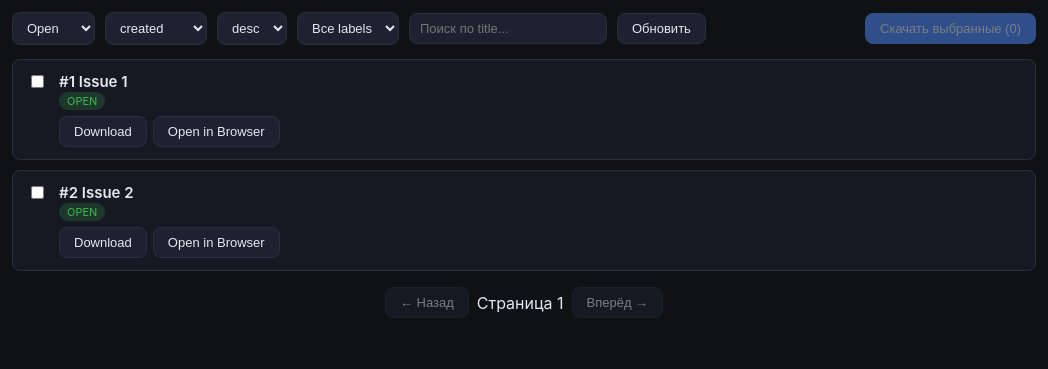
Test: selecting an issue › creates a filter chip, removes the construct text and reloads with the filter
In the field with placeholder "Поиск по title...": (508, 28) 409,13 -> 607,44, type "fix !dep#log"
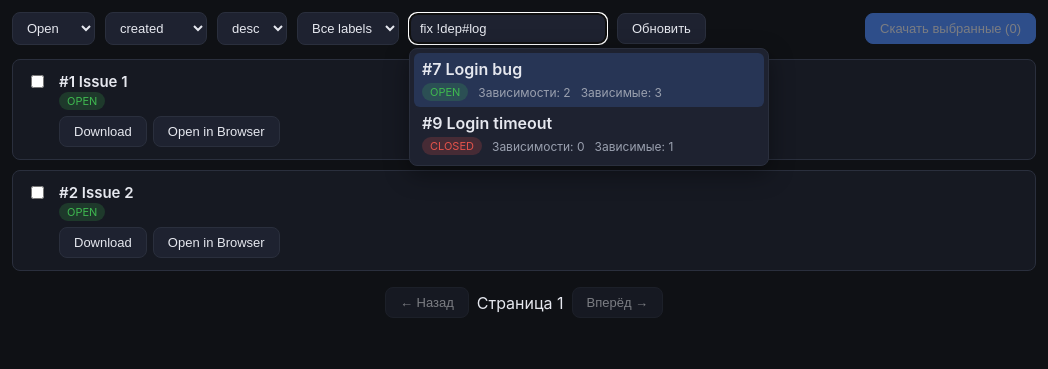
Expected: the option "#7 Login bug open Зависимости: 2 Зависимые: 3" is shown
Click the option "#7 Login bug open Зависимости: 2 Зависимые: 3": (484, 69) 414,53 -> 764,107
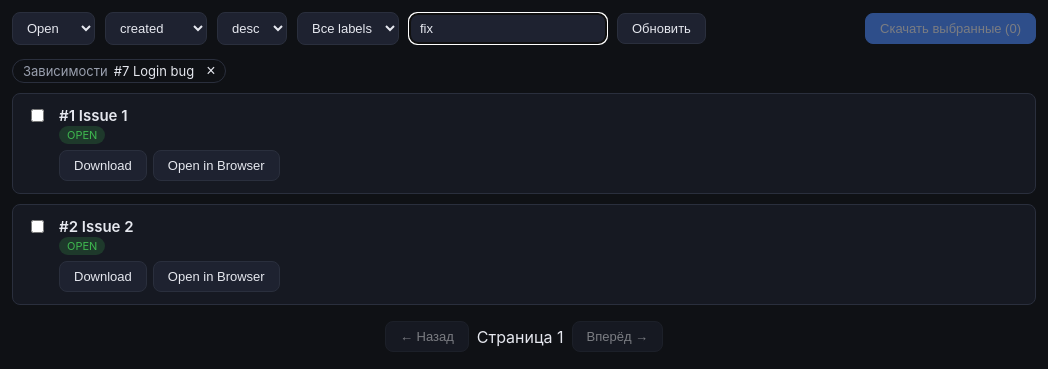
Expected: the text "Зависимости" is shown, 23,63 -> 108,79
Expected: the text "#7 Login bug" is shown, 114,63 -> 194,79
Expected: the field with placeholder "Поиск по title..." holds "fix ", 409,13 -> 607,44
